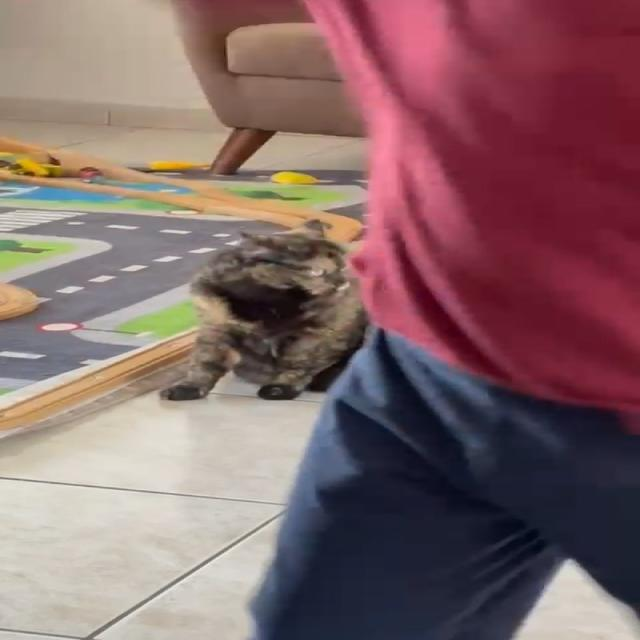authorized: (159, 218, 369, 402)
